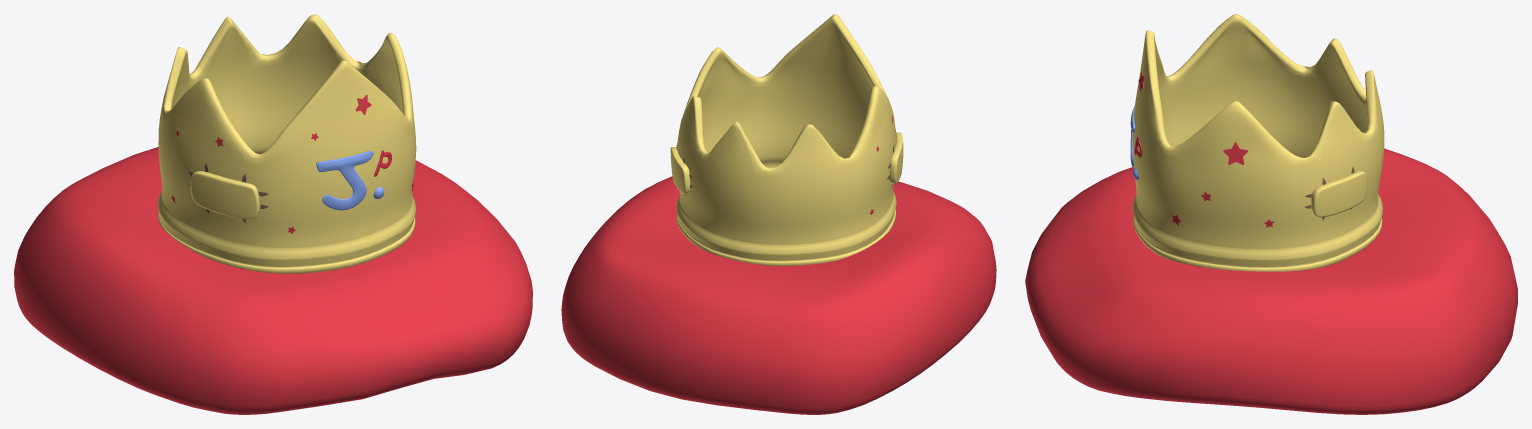
Rendered from Couronne.glb.
3 renders of one model, left to right at view 1: azimuth 30°, elevation 25°; view 2: azimuth 150°, elevation 25°; view 3: azimuth 270°, elevation 25°, orthographic. The views are drawn at different scales.
Parts seen in each view (by area): view 1: monCoussin, couronne, pansements, leJ; view 2: monCoussin, couronne, pansements; view 3: monCoussin, couronne, pansements, etoiles.
Part boxes in pixels (left/top/right/bottom): monCoussin: left=14, top=147, right=532, bottom=414; couronne: left=157, top=14, right=416, bottom=273; pansements: left=190, top=171, right=260, bottom=219; leJ: left=316, top=151, right=384, bottom=210; monCoussin: left=561, top=176, right=996, bottom=414; couronne: left=676, top=14, right=896, bottom=265; pansements: left=670, top=132, right=903, bottom=193; monCoussin: left=1025, top=148, right=1517, bottom=414; couronne: left=1132, top=14, right=1384, bottom=271; pansements: left=1311, top=171, right=1367, bottom=217; etoiles: left=1138, top=71, right=1273, bottom=227.
Size of the model in its own units: 1.01 by 0.7543 by 1.08.
